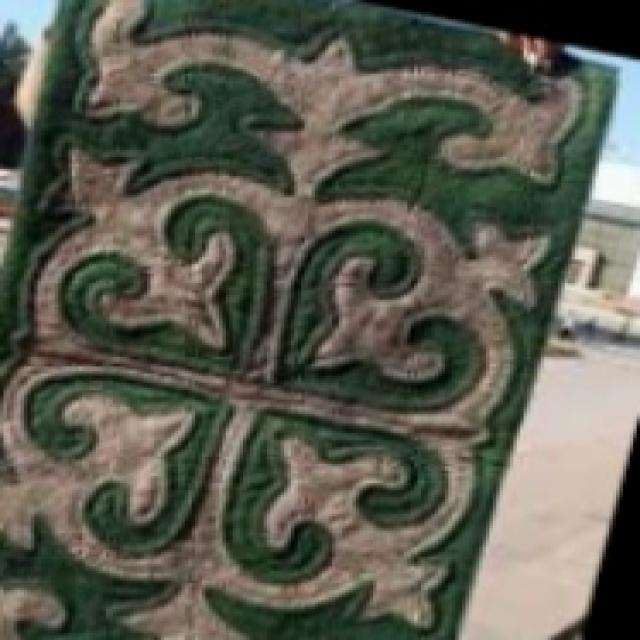Unity: (0, 127, 571, 633)
